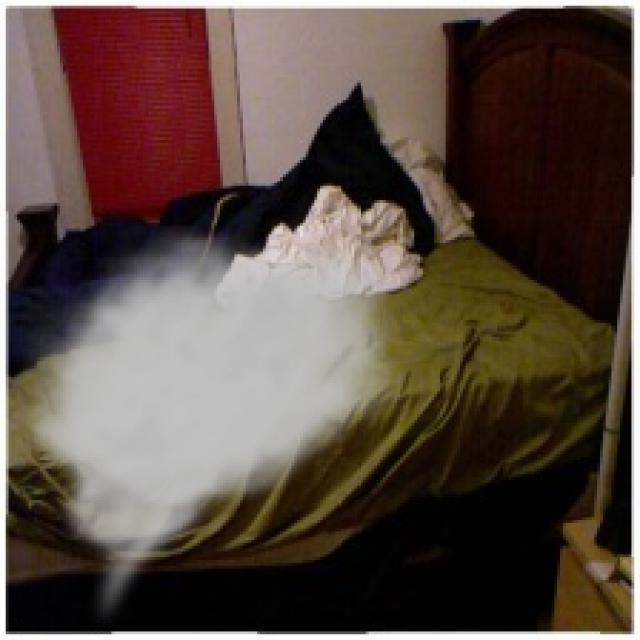Smoke: (14, 226, 417, 628)
